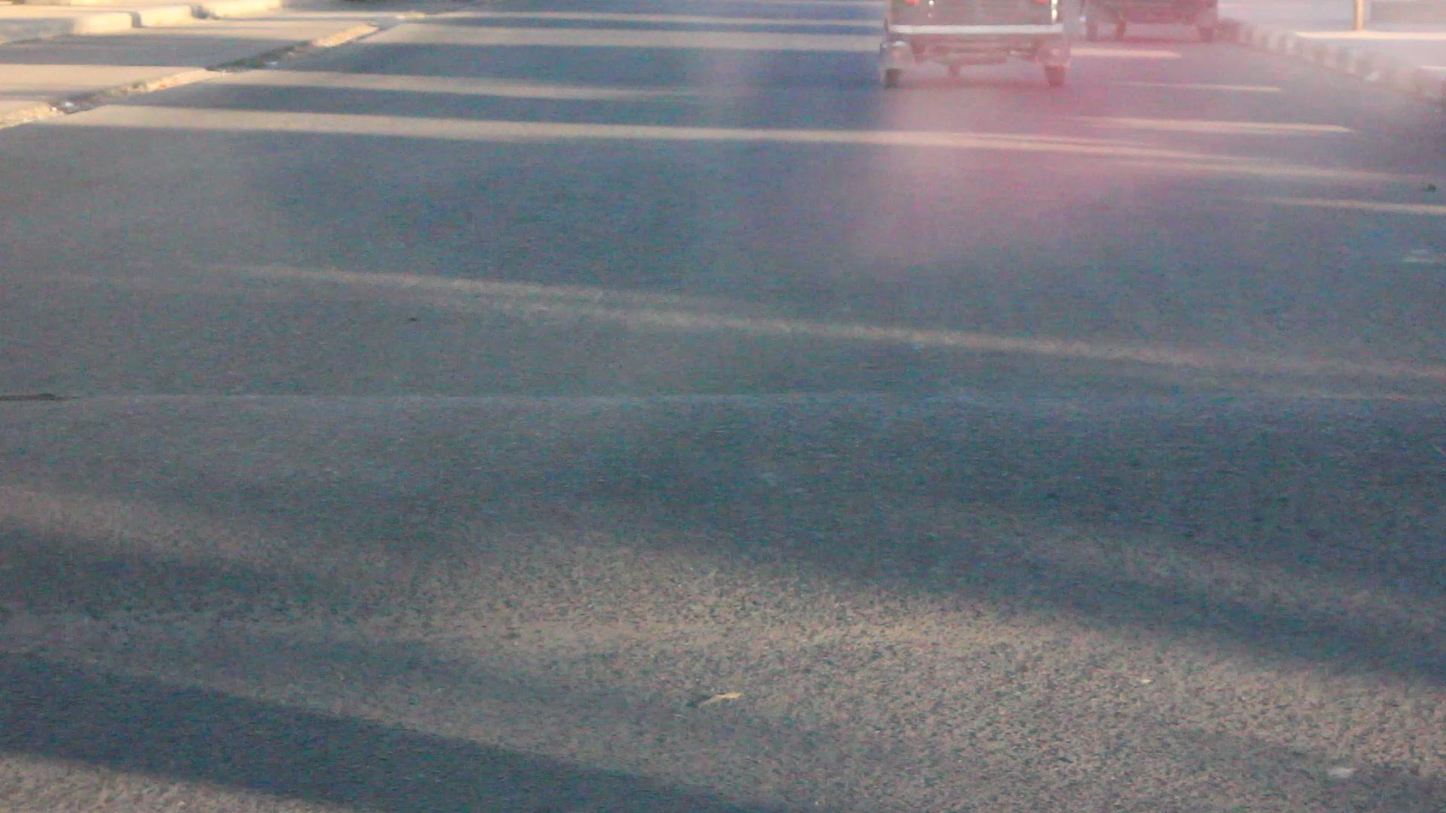Bump: (0, 256, 1446, 476)
